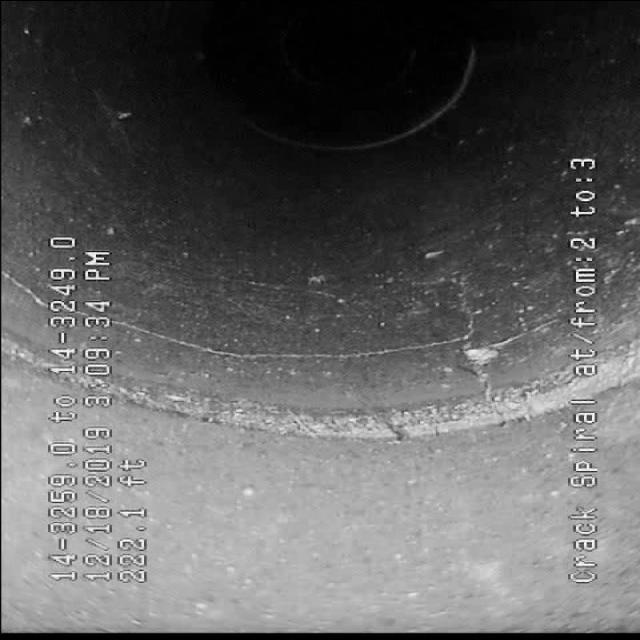Crack: (148, 304, 489, 382)
